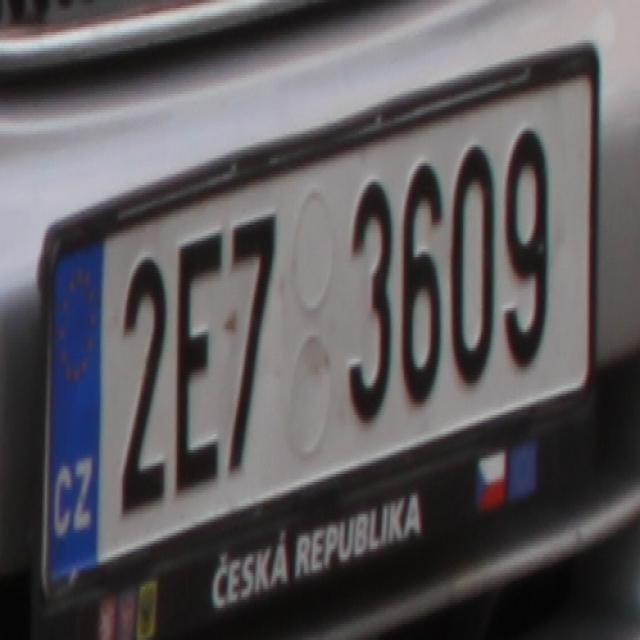0: (448, 144, 496, 378)
2: (116, 252, 166, 509)
3: (346, 174, 391, 423)
6: (396, 158, 444, 418)
7: (226, 212, 280, 472)
9: (500, 120, 548, 370)
E: (173, 225, 224, 488)
